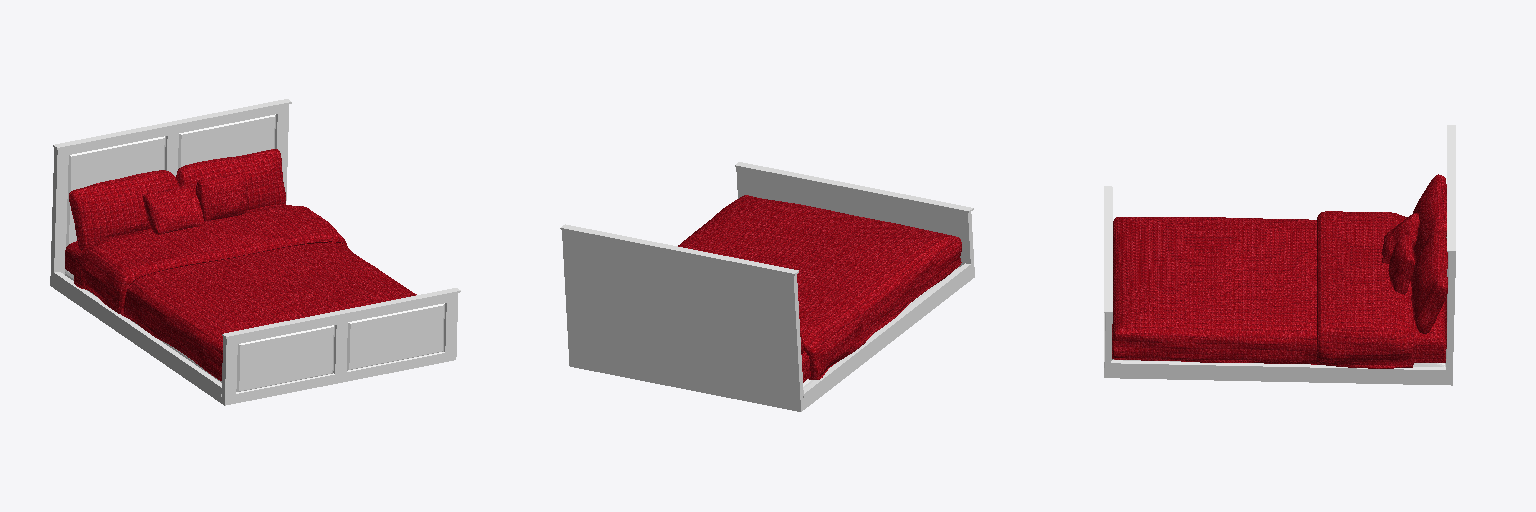
3 renders of one model, left to right at view 1: azimuth 30°, elevation 25°; view 2: azimuth 150°, elevation 25°; view 3: azimuth 270°, elevation 25°, orthographic.
Parts seen in each view (by area): view 1: Queen_Size_Bed_With_Paprika_Sheets_White_V1; view 2: Queen_Size_Bed_With_Paprika_Sheets_White_V1; view 3: Queen_Size_Bed_With_Paprika_Sheets_White_V1.
Boxes of the visible parts, x1,y1,x2,y2 form: Queen_Size_Bed_With_Paprika_Sheets_White_V1: [50, 99, 460, 405]; Queen_Size_Bed_With_Paprika_Sheets_White_V1: [560, 162, 974, 411]; Queen_Size_Bed_With_Paprika_Sheets_White_V1: [1104, 125, 1455, 385].
Bounding box in the file's own units: 165 × 98.91 × 211.
2 materials, 1 textured.